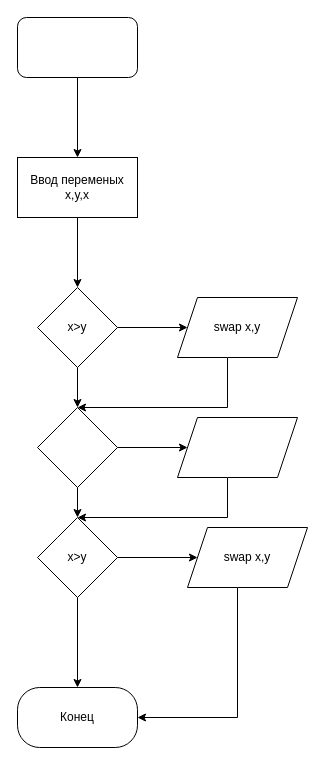
Some shapes in this 325 by 765 pixel diagram are drawn without their labels. Each missing label, with the box of its shape:
swap z,y: (176, 416, 298, 478)
y>z: (36, 406, 118, 488)
Начало: (16, 16, 138, 78)
